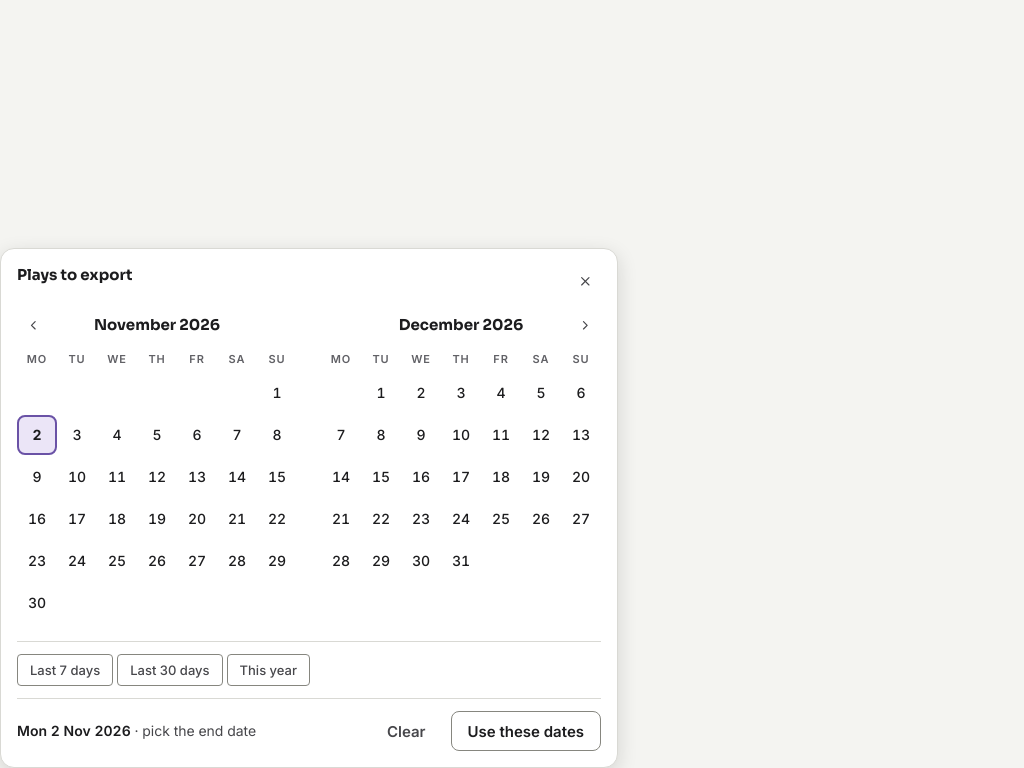
Test: DateRange › sets From on the first pick and To on the second, announcing each
(page scrolled)
Step 1. Click the button "13" below "November" → {"x": 197, "y": 477}, box left=177, top=457, right=217, bottom=497
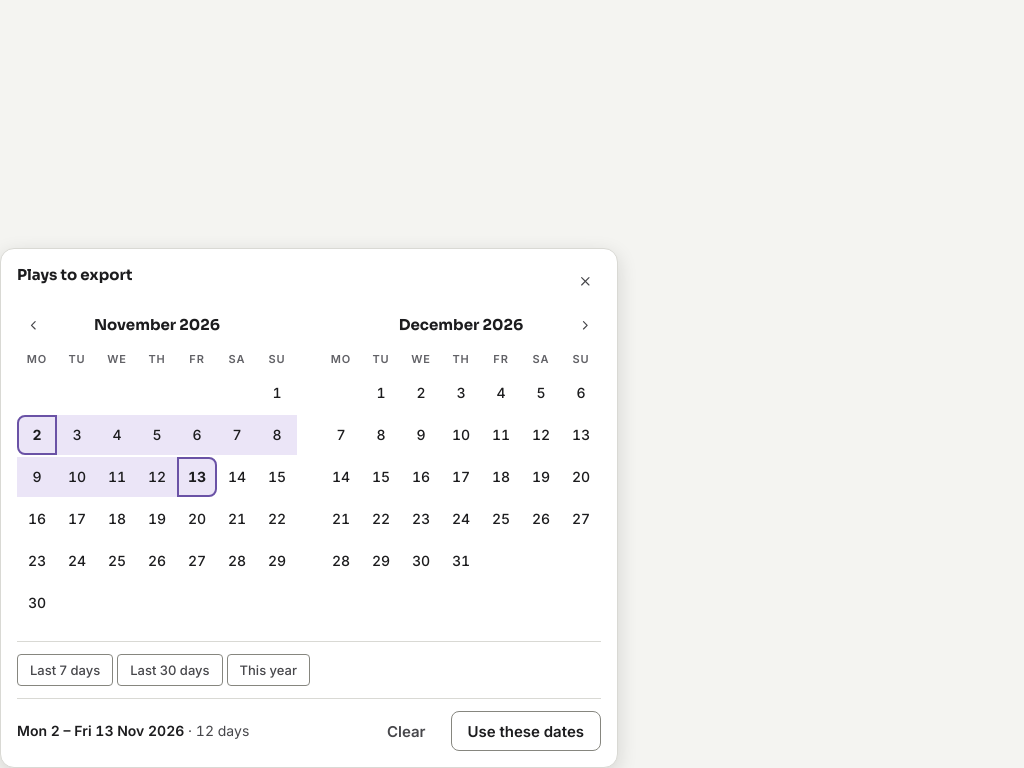
Result: the element with class "sn-date-range__sum" reads "Mon 2 – Fri 13 Nov 2026 · 12 days" at left=17, top=722, right=249, bottom=739
Step 2. Click the button "3" below "November" → {"x": 77, "y": 435}, box left=57, top=415, right=97, bottom=455
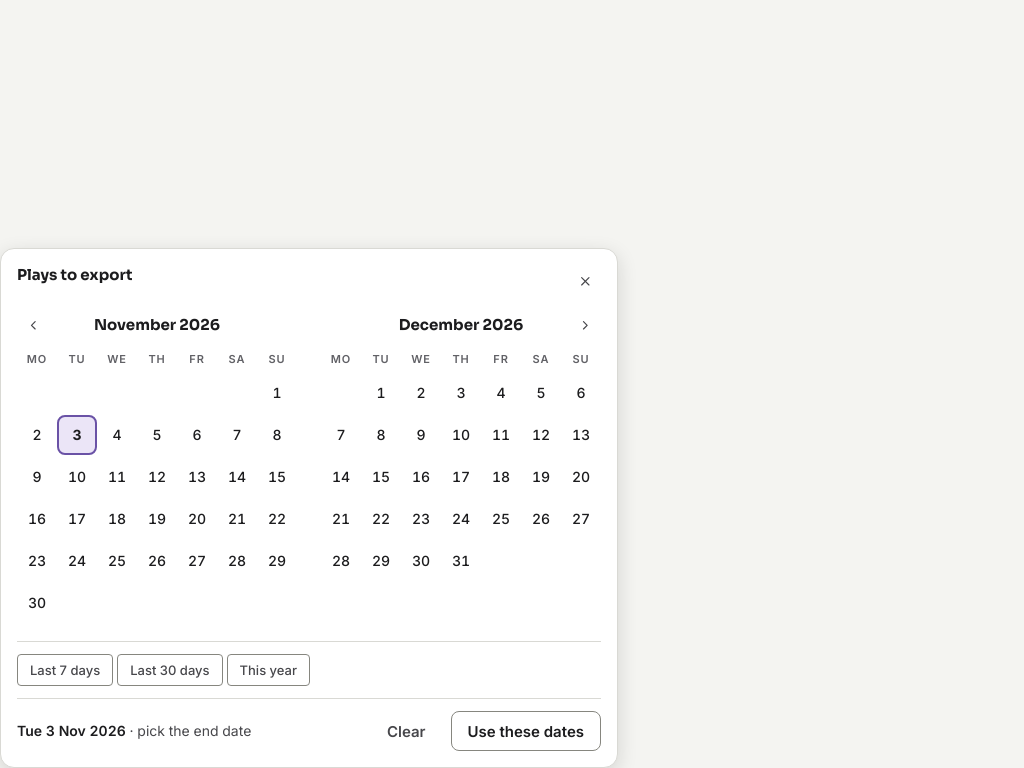
Result: the element with class "sn-date-range__sum" reads "Tue 3 Nov 2026 · pick the end date" at left=17, top=722, right=251, bottom=739
